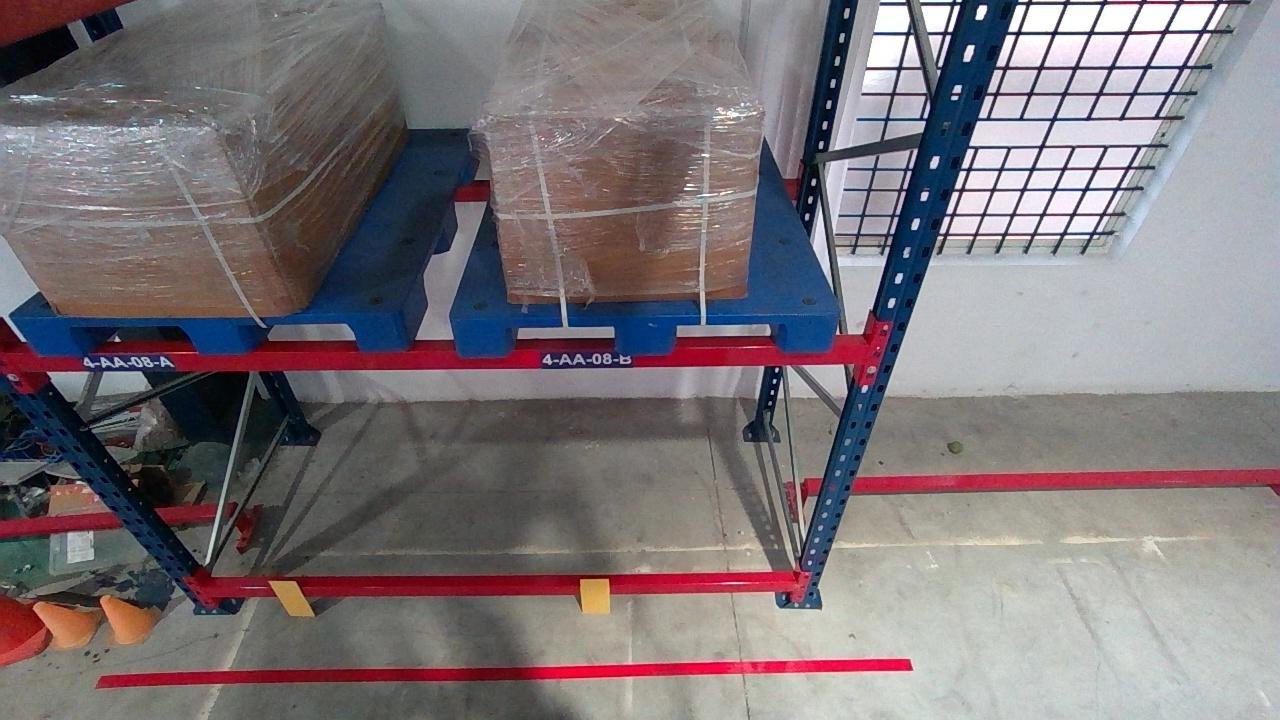h_rack: (8, 341, 869, 371), (204, 580, 798, 598)
orange_strip: (266, 580, 315, 616), (578, 578, 609, 614)
red_line: (94, 658, 913, 685)
small_pallet: (12, 313, 404, 354), (445, 313, 839, 352)
